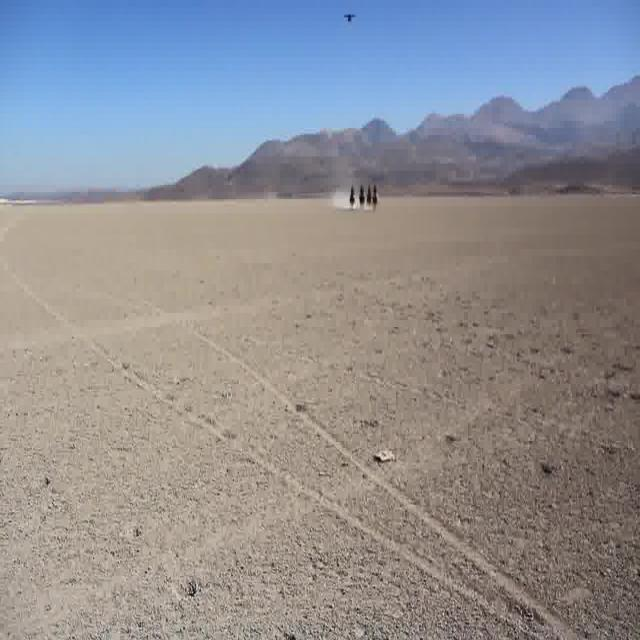drones: (338, 6, 360, 31)
